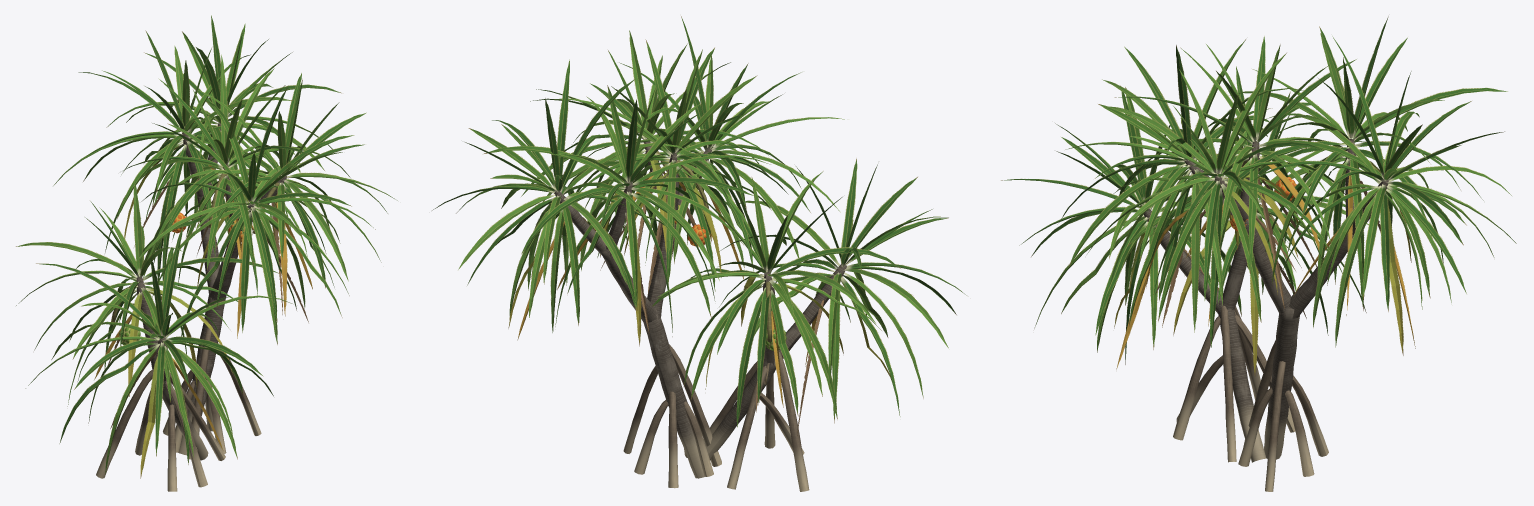
Rendered from Adan_A.gltf.
The picture shows the model from 3 angles, left to right: view 1: azimuth 30°, elevation 25°; view 2: azimuth 150°, elevation 25°; view 3: azimuth 270°, elevation 25°; orthographic projection. The views are drawn at different scales.
Parts seen in each view (by area): view 1: Adan_A; view 2: Adan_A; view 3: Adan_A.
Part boxes in pixels (<box>): Adan_A: <box>16,15,397,491</box>; Adan_A: <box>432,16,966,491</box>; Adan_A: <box>1001,16,1516,491</box>.
Size of the model in its own units: 3.98 by 3.82 by 4.
Materials: 3 (3 with a texture image).
